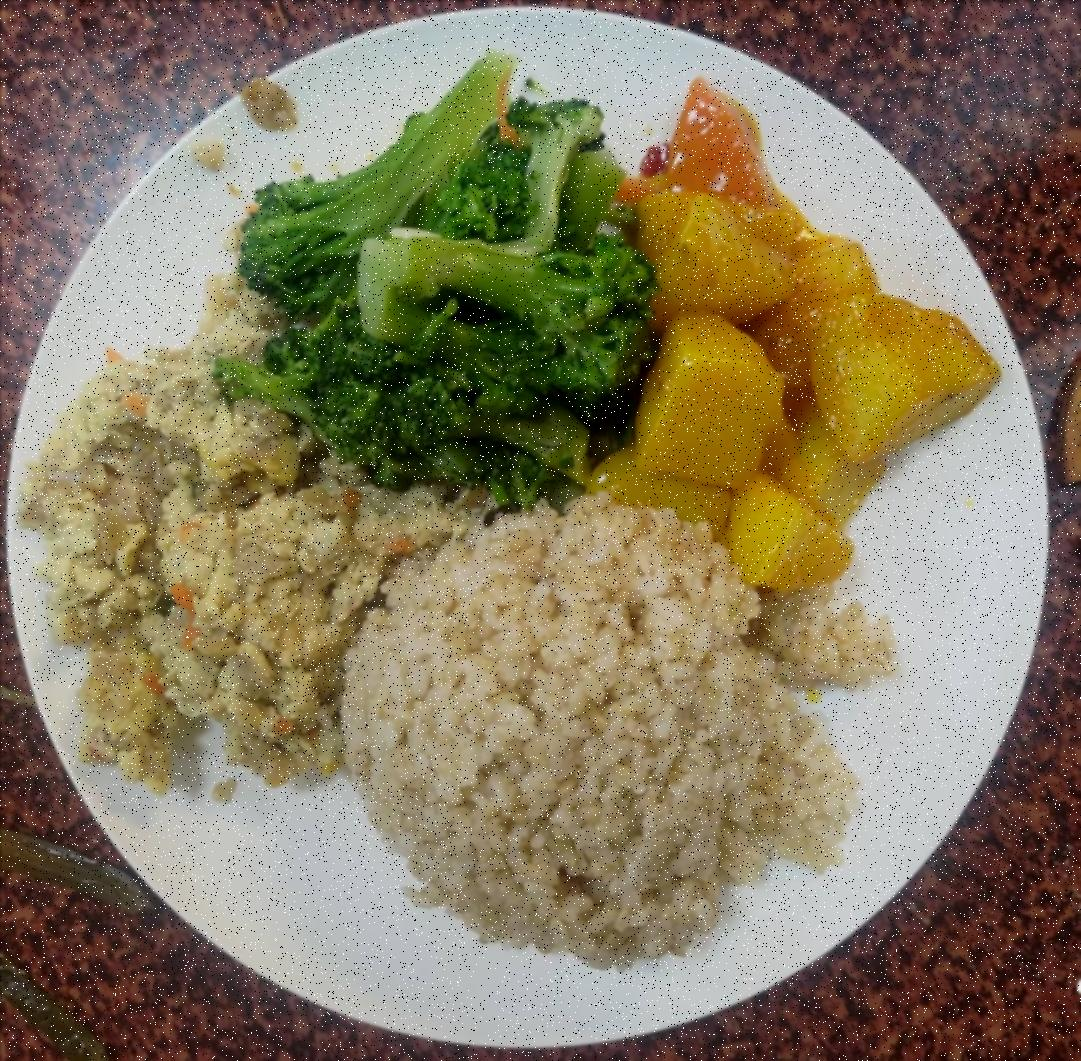big fried chicken leg: (17, 13, 1056, 1058)
box: (347, 508, 868, 964)
braised fish fillet: (613, 80, 997, 594), (232, 53, 656, 501), (35, 326, 431, 782)
